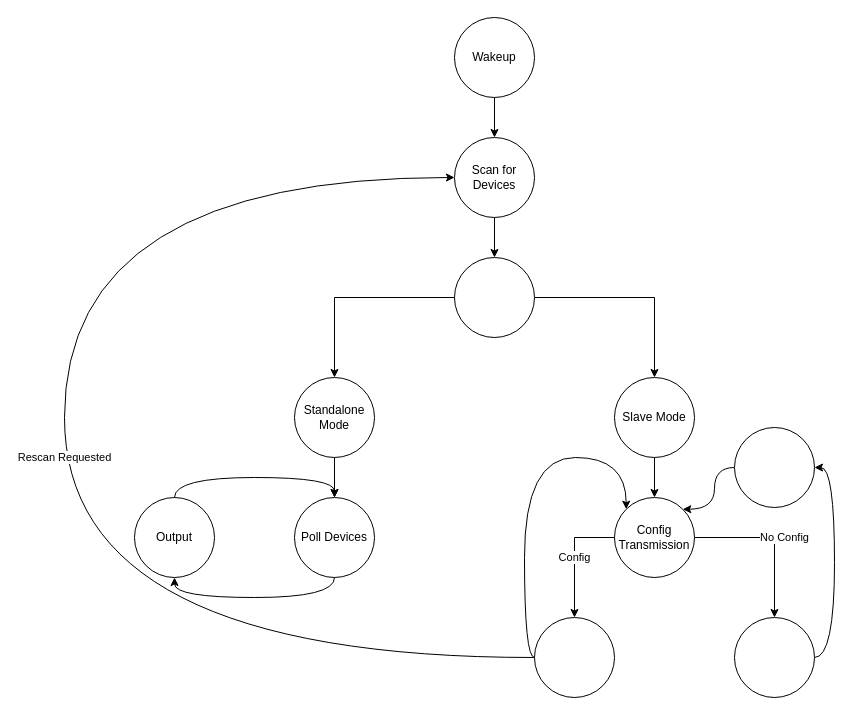
Image size: 852x715. Some labels were removed from this diagram. The shapes that lost their labels are listed below. From the top down, each one's centre as x and y in pixels, then its label:
At (x=494, y=297): "Scan for master connection".
At (x=774, y=467): "Tansmit to master".
At (x=574, y=657): "Config Mode".
At (x=774, y=657): "Device Polling".
